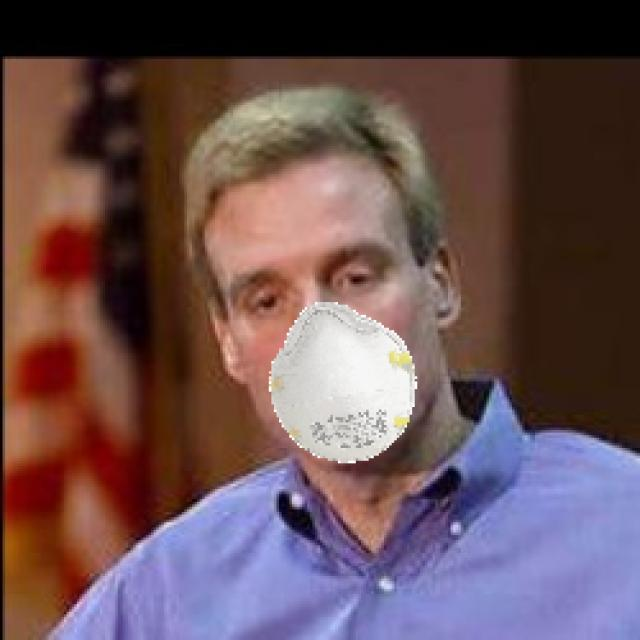mask: (240, 308, 447, 489)
